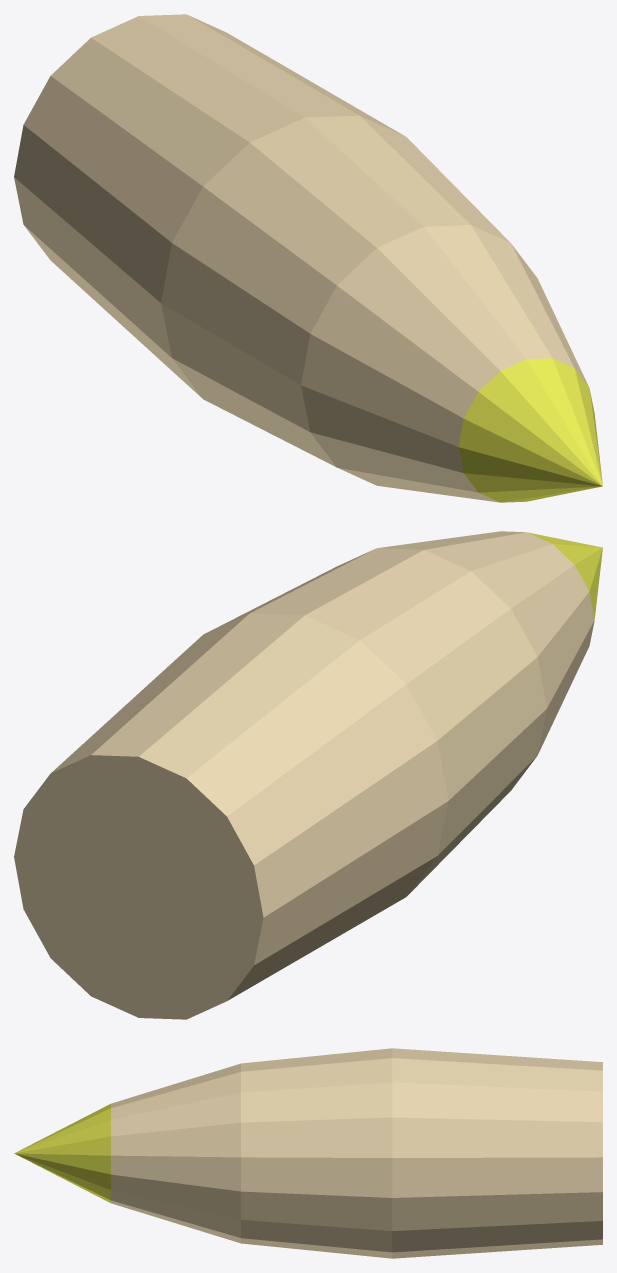
The model's file is Bullet.fbx.
3 views of the same model, one above another, from view 1: azimuth 30°, elevation 25°; view 2: azimuth 150°, elevation 25°; view 3: azimuth 270°, elevation 25° (orthographic). The views are drawn at different scales.
Visible parts, largest first — view 1: 柱体; view 2: 柱体; view 3: 柱体.
Part boxes in pixels (<box>): 柱体: <box>14,14,602,502</box>; 柱体: <box>14,531,602,1019</box>; 柱体: <box>14,1048,602,1258</box>.
Size of the model in its own units: 2 by 2 by 5.59.
